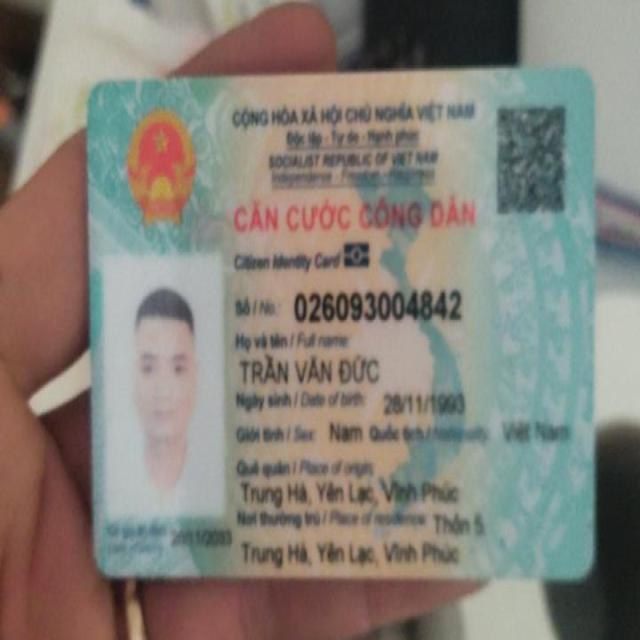bottom_left: (76, 544, 122, 592)
bottom_right: (565, 552, 610, 600)
image_person: (90, 264, 234, 522)
top_left: (73, 70, 113, 118)
top_right: (565, 54, 608, 106)
